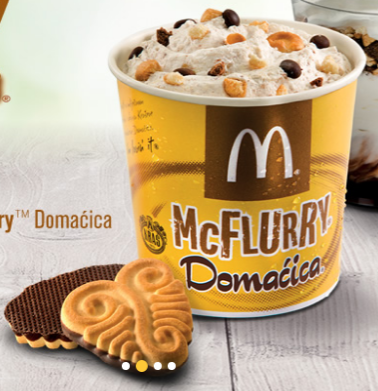mcdonalds: (220, 121, 297, 189)
